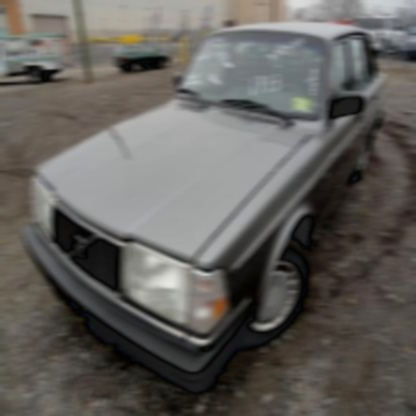Vehicle: (18, 17, 390, 390)
